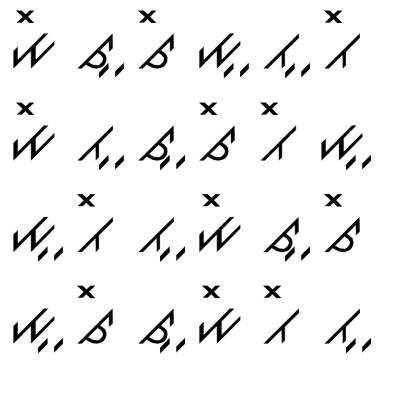bah: (318, 296, 381, 362), (74, 117, 126, 175), (260, 27, 312, 79), (136, 213, 189, 263)
bo: (74, 185, 121, 263), (252, 98, 303, 165), (256, 281, 302, 350), (320, 6, 367, 72)
cah: (126, 301, 186, 353), (72, 27, 130, 79), (136, 118, 188, 176), (261, 215, 315, 269)
co: (318, 187, 370, 260), (194, 98, 239, 171), (134, 6, 178, 76), (74, 278, 118, 347)
mah: (4, 204, 69, 267), (191, 18, 254, 81), (314, 114, 377, 175), (7, 299, 66, 352)
mo: (8, 96, 60, 163), (7, 6, 59, 70), (194, 283, 243, 350), (195, 192, 247, 255)
